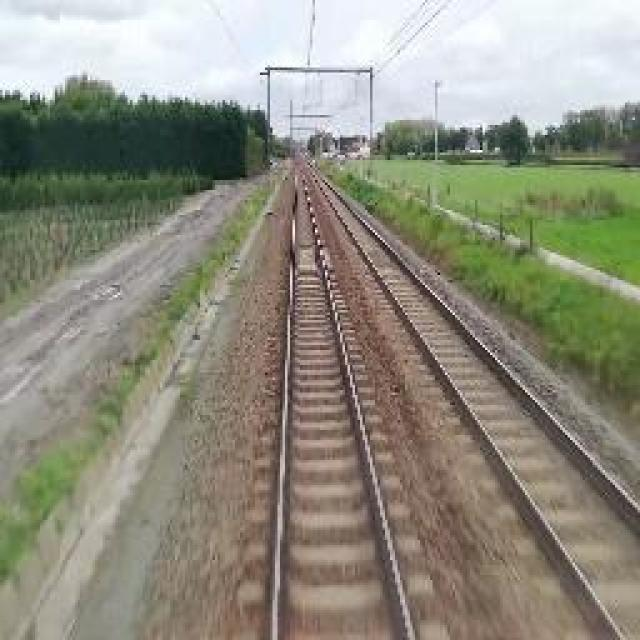rail: (239, 159, 459, 640)
